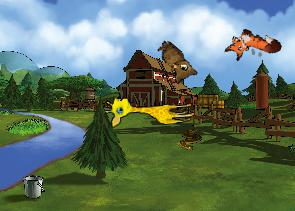fox: (222, 22, 283, 73)
giraffe: (104, 91, 195, 128)
owl: (147, 38, 201, 89)
